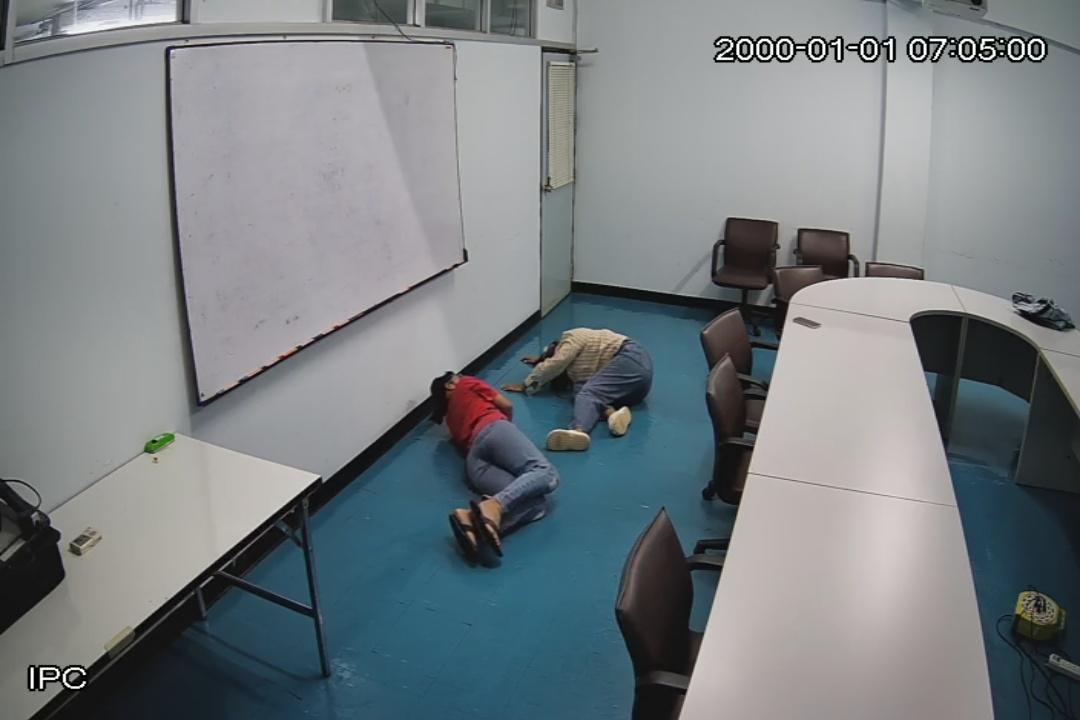fall: (416, 364, 566, 560), (540, 316, 664, 470)
